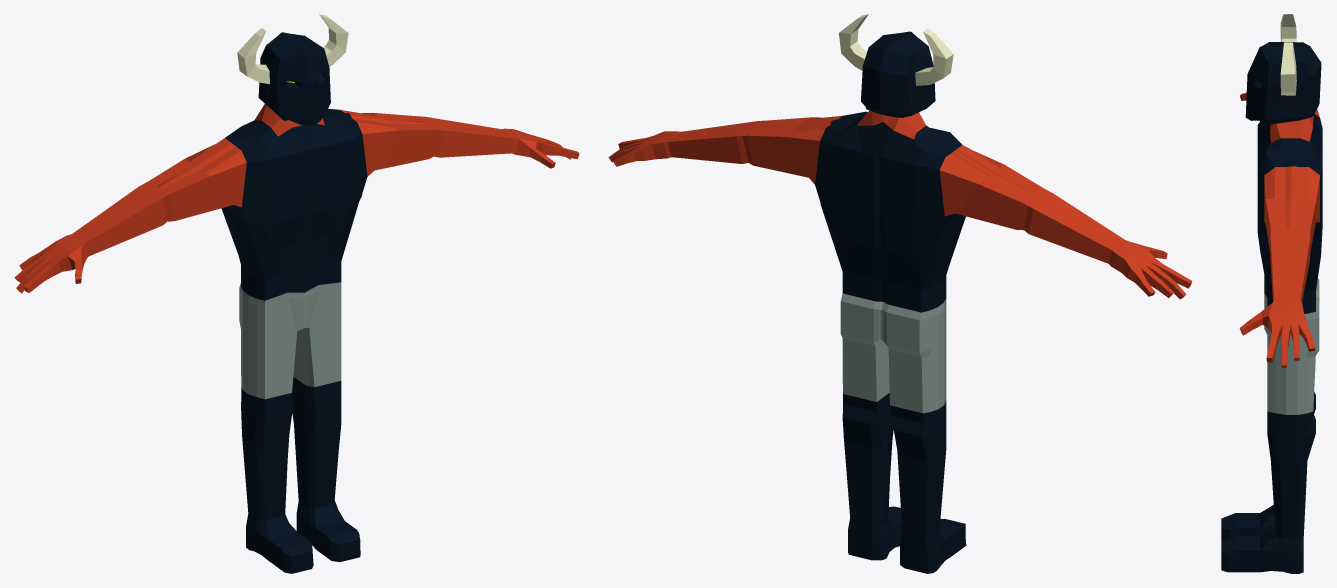
File: demonLord_0.2.1.fbx
The picture shows the model from 3 angles, left to right: view 1: azimuth 30°, elevation 25°; view 2: azimuth 150°, elevation 25°; view 3: azimuth 270°, elevation 25°; orthographic projection. The views are drawn at different scales.
Parts seen in each view (by area): view 1: demonLord; view 2: demonLord; view 3: demonLord.
Boxes of the visible parts, <box> form: demonLord: <box>14,14,579,573</box>; demonLord: <box>608,14,1192,573</box>; demonLord: <box>1221,14,1322,573</box>.
Bounding box in the file's own units: 1792 × 1599 × 280.
